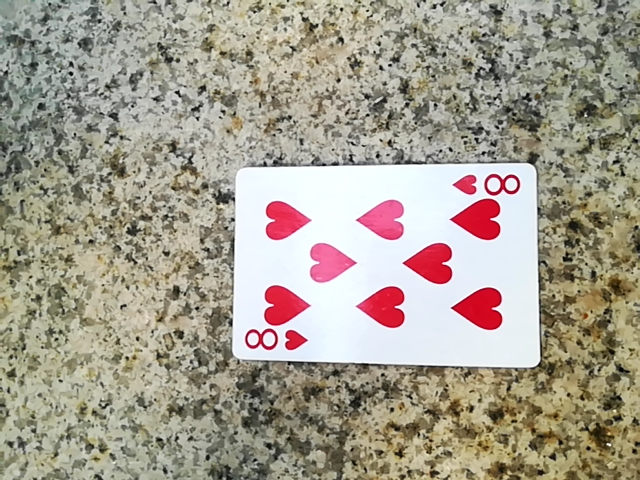hx 8: (231, 154, 536, 364)
